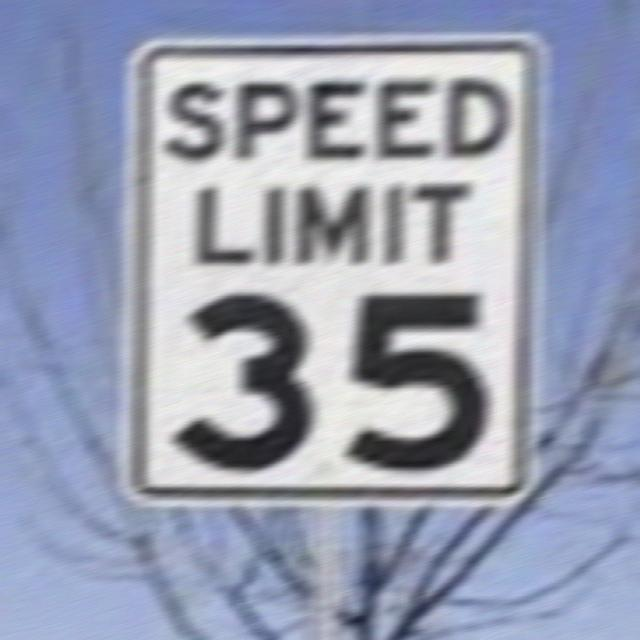speedLimit35: (124, 32, 542, 503)
